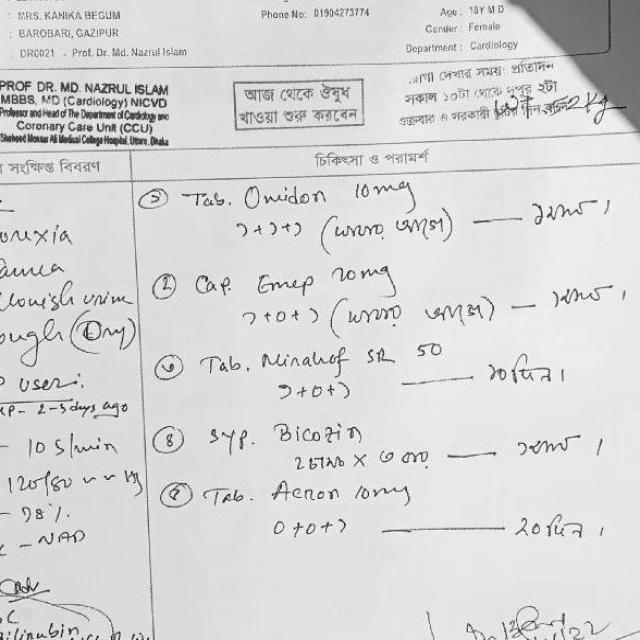medicine: (250, 345, 401, 373), (269, 416, 367, 450), (263, 473, 342, 515), (239, 182, 331, 213), (252, 270, 322, 299)
